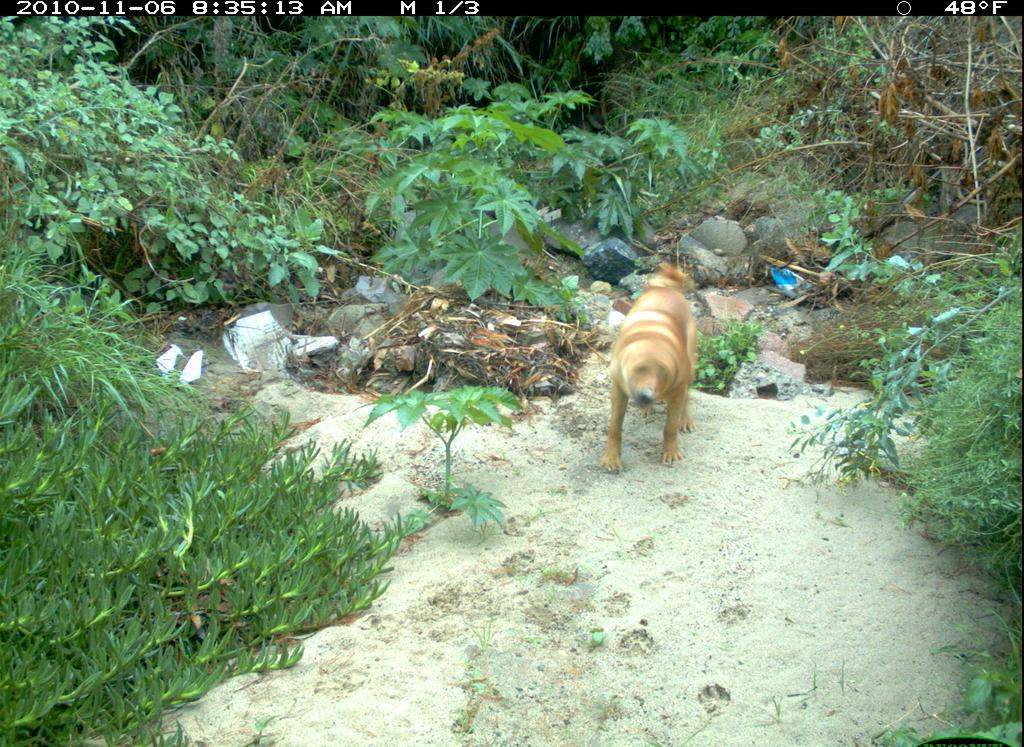dog: (593, 264, 721, 472)
